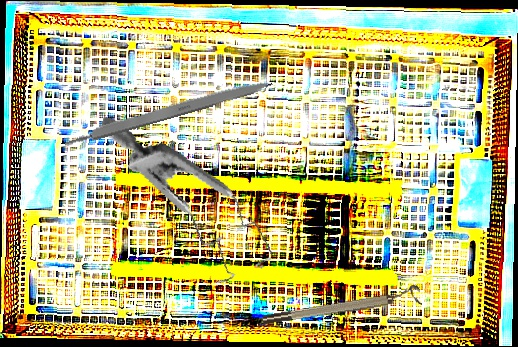Fixation Ring: (261, 284, 422, 327)
Scalpel Handle: (62, 74, 274, 149)
Speculum: (73, 116, 294, 294)
